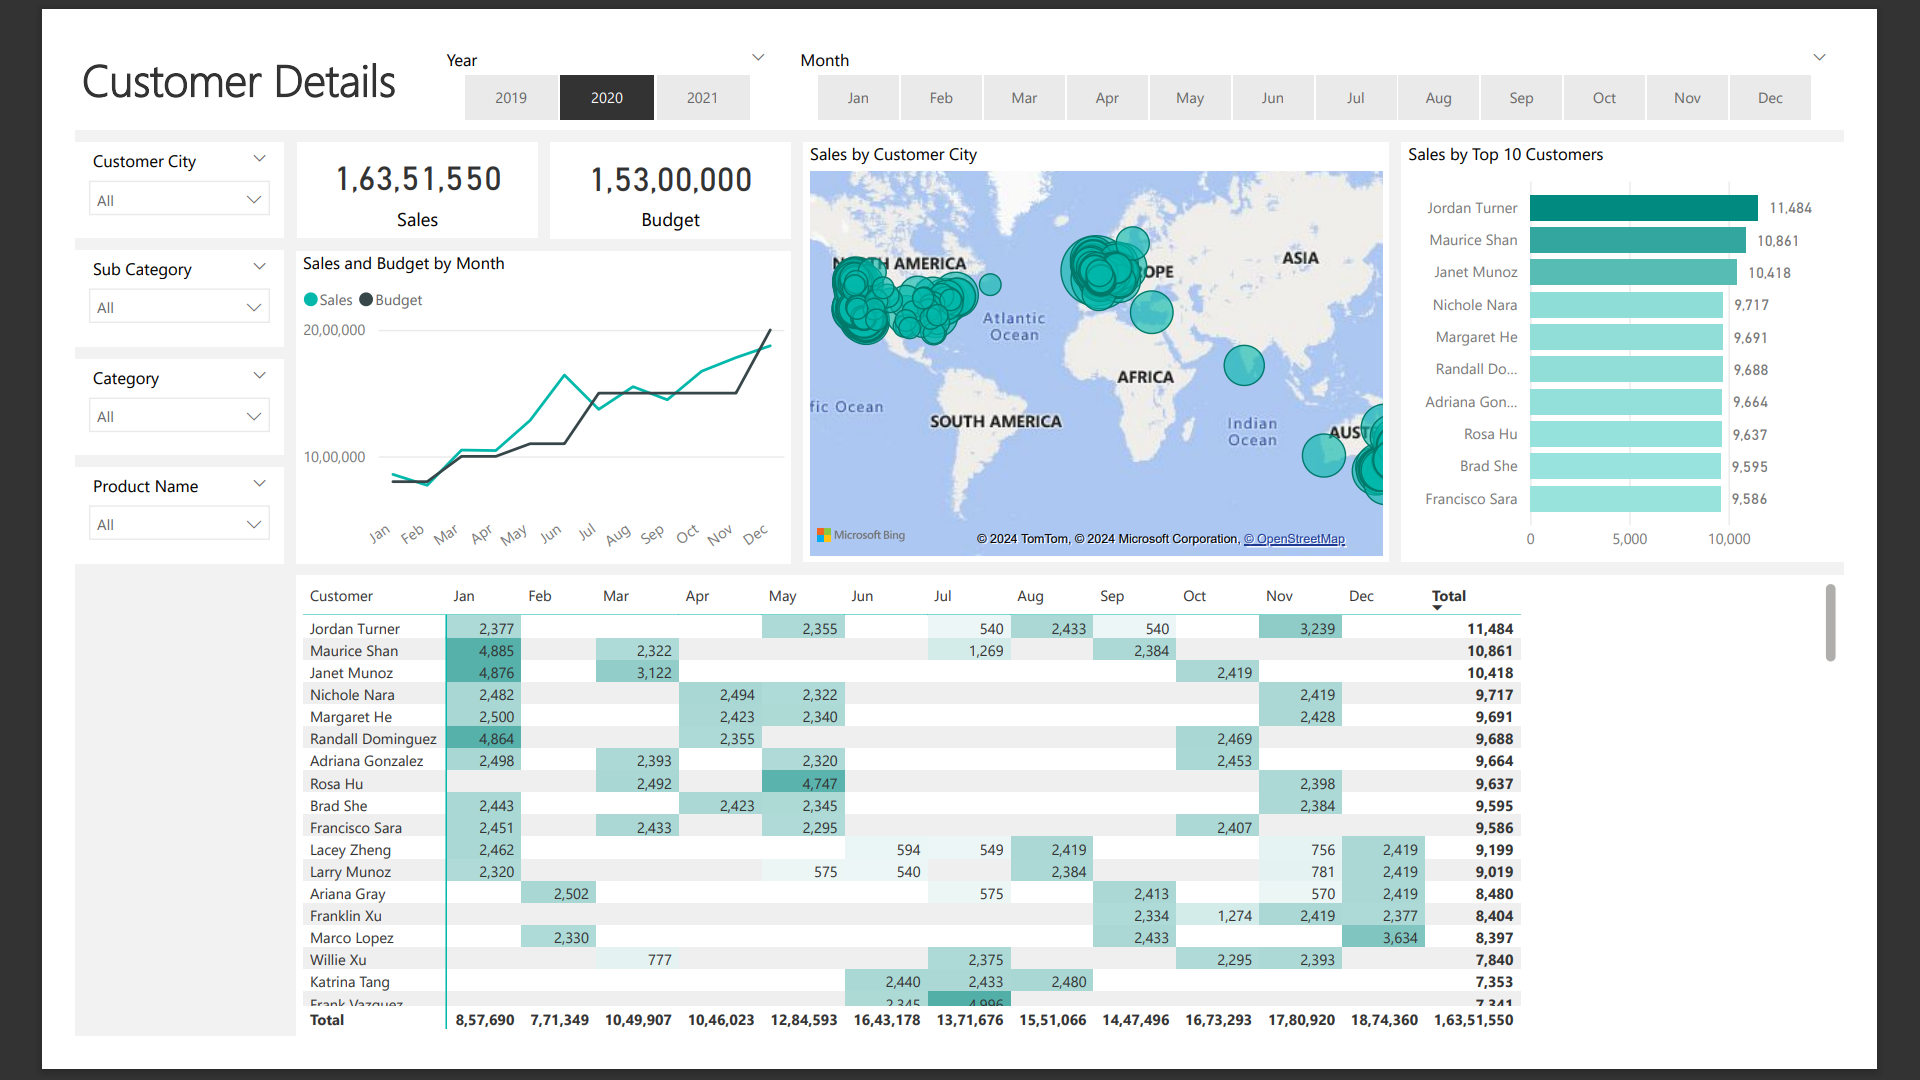

This screenshot's page, from the dashboard's own definition file:
{"tool":"powerbi","page":{"name":"Customer Details","canvas":[1280,720],"ordinal":1},"visuals":[{"type":"textbox","box":[0,0,1280,64],"z":0},{"type":"slicer","fields":{"Values":["DIM_Calendar.Year"]},"box":[256,0,256,64],"z":1000},{"type":"slicer","fields":{"Values":["DIM_Calendar.MonthShort"]},"box":[512,0,768,64],"z":2000},{"type":"slicer","fields":{"Values":["DIM_Customers.Customer City"]},"box":[0,73,150.5,69.3],"z":3000},{"type":"slicer","fields":{"Values":["DIM_Products.Product Category"]},"box":[0,229.9,150.5,69.3],"z":4000},{"type":"slicer","fields":{"Values":["DIM_Products.Product Name"]},"box":[0,308.4,150.5,69.3],"z":5000},{"type":"slicer","fields":{"Values":["DIM_Products.Sub Category"]},"box":[0,151.4,150.5,69.3],"z":6000},{"type":"lineChart","fields":{"Category":["DIM_Calendar.MonthShort"],"Y":["Analysis Metrics.Sales","Analysis Metrics.Budget"]},"box":[159.8,151.8,358.7,226.4],"z":7000},{"type":"card","fields":{"Values":["Analysis Metrics.Sales"]},"box":[160.7,72.8,174,69.2],"z":8000},{"type":"map","fields":{"Category":["DIM_Customers.Customer City"],"Size":["Analysis Metrics.Sales"]},"box":[527.3,72.8,423.5,304.5],"z":9000},{"type":"card","fields":{"Values":["Analysis Metrics.Budget"]},"box":[343.6,72.8,174.9,70.1],"z":10000},{"type":"pivotTable","fields":{"Rows":["DIM_Customers.Full Name"],"Columns":["DIM_Calendar.MonthShort"],"Values":["Analysis Metrics.Sales"]},"box":[159.8,387.1,1120.4,332.9],"z":11000},{"type":"barChart","title":"Sales by Top 10 Customers","fields":{"Category":["DIM_Customers.Full Name"],"Y":["Analysis Metrics.Sales"]},"box":[959.7,72.8,320.5,304.5],"z":12000}]}

Visuals, with their boxes in screenshot pixels (x1, y1, x2, y2), scaled from the page's 1280x720 canvas onto the 1920x1080 screenshot:
textbox: 0/0/1919/96
slicer - DIM_Calendar.Year: 384/0/768/96
slicer - DIM_Calendar.MonthShort: 768/0/1919/96
slicer - DIM_Customers.Customer City: 0/110/226/213
slicer - DIM_Products.Product Category: 0/345/226/449
slicer - DIM_Products.Product Name: 0/463/226/567
slicer - DIM_Products.Sub Category: 0/227/226/331
lineChart - DIM_Calendar.MonthShort x Analysis Metrics.Sales: 240/228/778/567
card - Analysis Metrics.Sales: 241/109/502/213
map - DIM_Customers.Customer City x Analysis Metrics.Sales: 791/109/1426/566
card - Analysis Metrics.Budget: 515/109/778/214
pivotTable - DIM_Customers.Full Name x DIM_Calendar.MonthShort: 240/581/1919/1079
"Sales by Top 10 Customers" barChart: 1440/109/1919/566
